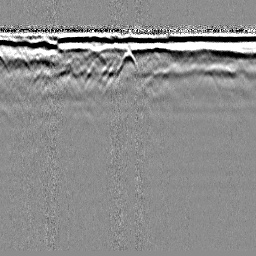cavity: (116, 51, 139, 74)
